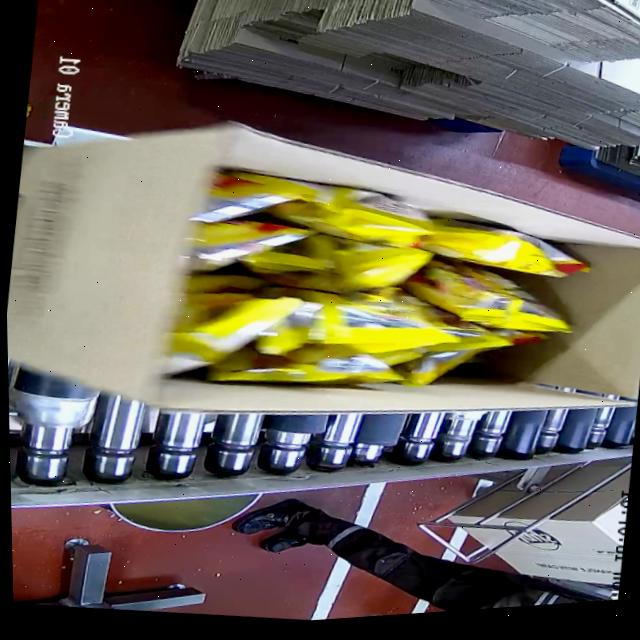SALTED: (190, 144, 598, 418)
